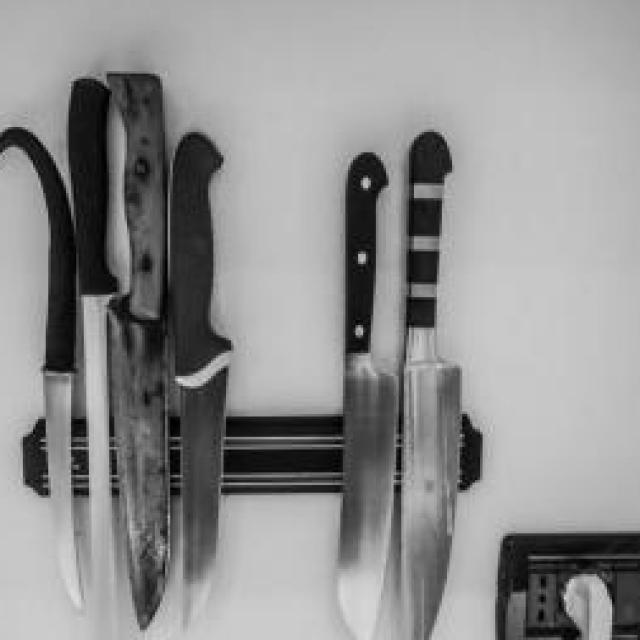knife: (297, 84, 399, 640), (165, 127, 259, 640), (96, 66, 180, 635), (0, 122, 92, 620), (394, 127, 480, 640), (68, 61, 112, 640)
